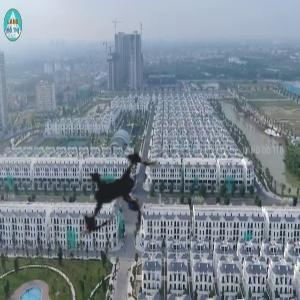drone: (24, 100, 210, 286)
